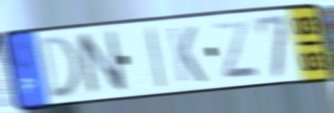7: (252, 12, 290, 80)
D: (38, 32, 83, 103)
I: (144, 24, 168, 92)
K: (166, 24, 208, 85)
N: (73, 27, 130, 99)
Z: (212, 18, 262, 81)
